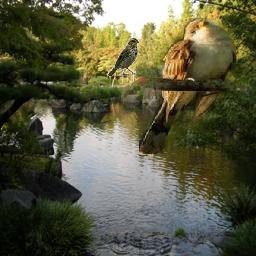Cuckoo: (140, 18, 237, 156)
Sparrow: (107, 37, 139, 77)
